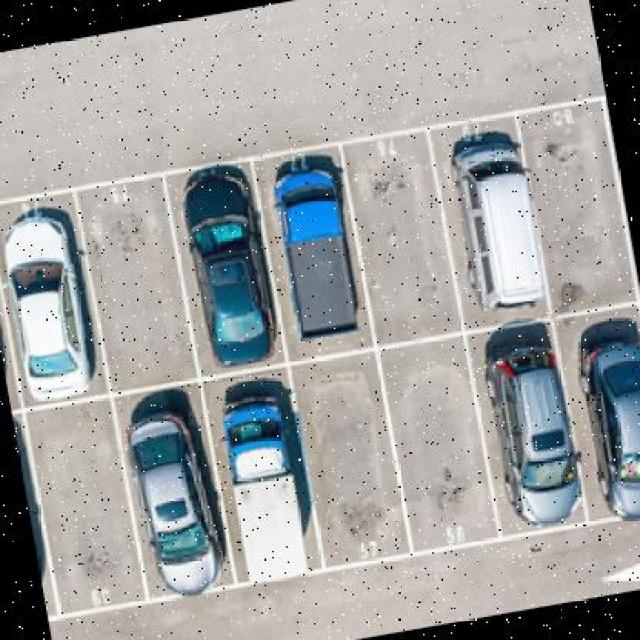Car: (215, 370, 329, 590), (478, 335, 596, 547), (118, 403, 239, 609), (441, 121, 550, 321), (186, 172, 283, 372), (1, 210, 103, 398), (269, 161, 369, 346), (572, 306, 640, 529)
Empty: (76, 174, 201, 394), (24, 399, 149, 615), (381, 339, 499, 552), (344, 132, 463, 343), (521, 97, 636, 314), (296, 356, 409, 564)
